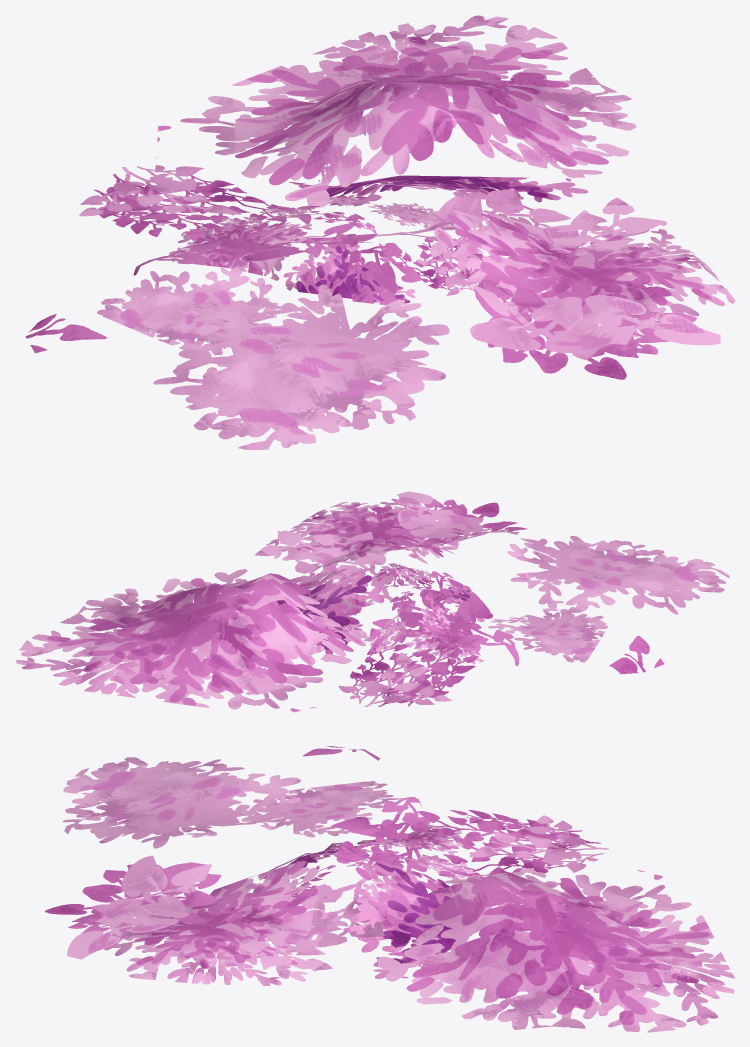
The model's file is snow.fbx.
3 views of the same model, one above another, from view 1: azimuth 30°, elevation 25°; view 2: azimuth 150°, elevation 25°; view 3: azimuth 270°, elevation 25° (orthographic). The views are drawn at different scales.
Parts seen in each view (by area): view 1: G4_snow1, G4_snow2, G4_snow3; view 2: G4_snow1, G4_snow2, G4_snow3; view 3: G4_snow1, G4_snow2, G4_snow3.
Boxes of the visible parts, left/top/right/bottom form: G4_snow1: left=25, top=15, right=720, bottom=450; G4_snow2: left=79, top=166, right=735, bottom=354; G4_snow3: left=169, top=195, right=491, bottom=304; G4_snow1: left=15, top=491, right=729, bottom=712; G4_snow2: left=230, top=502, right=607, bottom=707; G4_snow3: left=328, top=563, right=484, bottom=664; G4_snow1: left=45, top=746, right=735, bottom=1032; G4_snow2: left=109, top=781, right=608, bottom=985; G4_snow3: left=263, top=825, right=474, bottom=915.
Bounding box in the file's own units: 83.03 × 7.5 × 87.85.
Materials: 1 (1 with a texture image).
